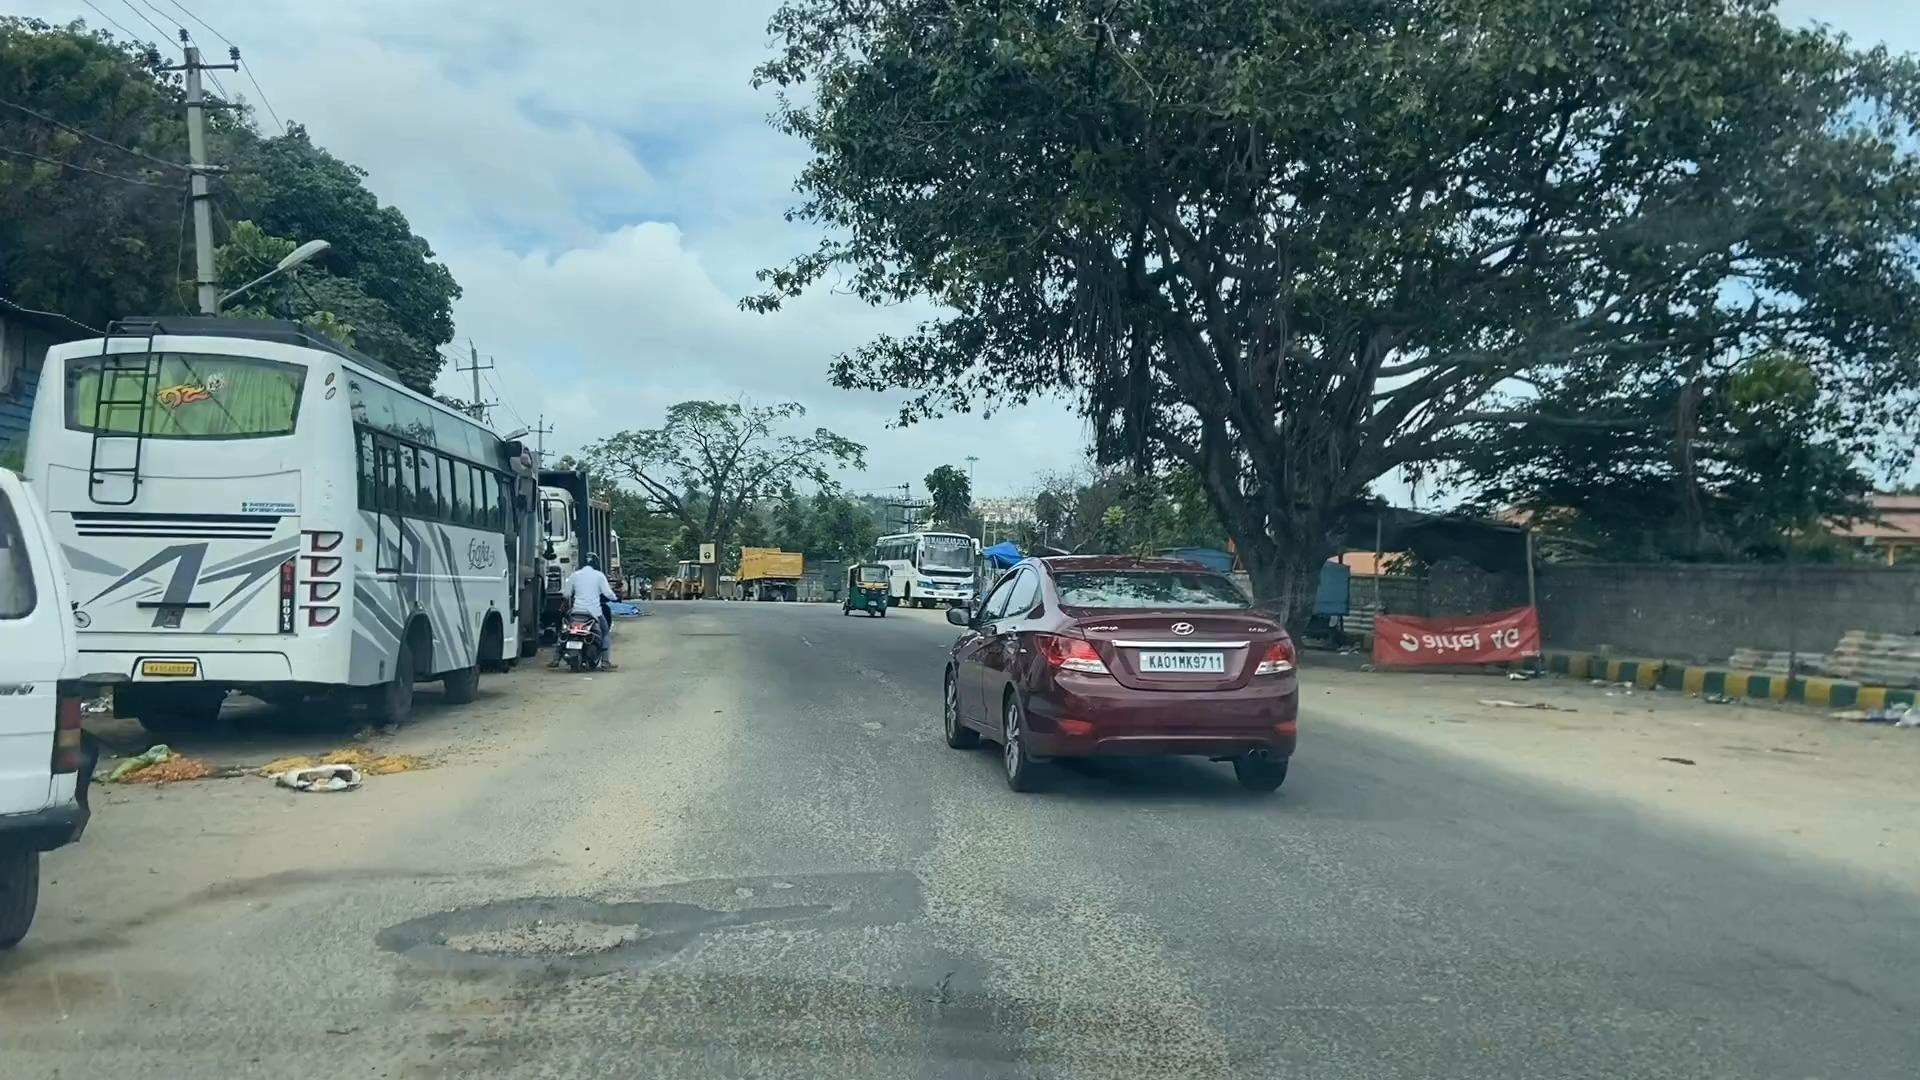HMV: (29, 310, 541, 773), (866, 514, 993, 626), (728, 538, 815, 613)
LMV: (927, 506, 1346, 835), (0, 455, 107, 971), (556, 538, 646, 703), (836, 550, 905, 633)
RoadDamages: (332, 844, 890, 1036), (785, 641, 942, 793)
